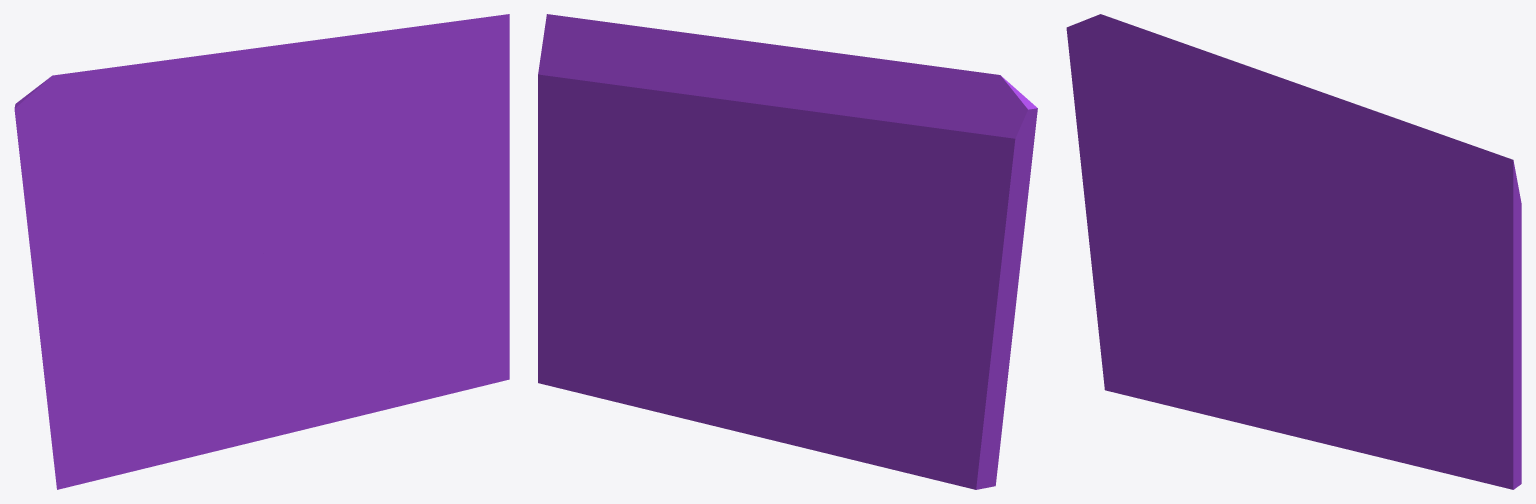
Rendered from Glass_2_1_chunks.fbx.
The picture shows the model from 3 angles, left to right: view 1: azimuth 30°, elevation 25°; view 2: azimuth 150°, elevation 25°; view 3: azimuth 330°, elevation 25°; orthographic projection. The views are drawn at different scales.
Visible parts, largest first — view 1: Glass_2_1_0, Glass_2_1_8, Glass_2_1_3, Glass_2_1_6, Glass_2_1_5, Glass_2_1_11, Glass_2_1_12, Glass_2_1_4, Glass_2_1_9, Glass_2_1_2, Glass_2_1_1, Glass_2_1_10; view 2: Glass_2_1_0, Glass_2_1_8, Glass_2_1_5, Glass_2_1_3, Glass_2_1_6, Glass_2_1_11, Glass_2_1_12, Glass_2_1_4, Glass_2_1_9, Glass_2_1_7; view 3: Glass_2_1_0, Glass_2_1_8, Glass_2_1_3, Glass_2_1_6, Glass_2_1_5, Glass_2_1_11, Glass_2_1_12, Glass_2_1_4, Glass_2_1_9, Glass_2_1_2, Glass_2_1_1, Glass_2_1_10.
Boxes of the visible parts, x1,y1,x2,y2 form: Glass_2_1_0: [14, 44, 285, 315]; Glass_2_1_8: [243, 25, 429, 254]; Glass_2_1_3: [144, 287, 420, 468]; Glass_2_1_6: [265, 213, 509, 400]; Glass_2_1_5: [37, 271, 172, 489]; Glass_2_1_11: [378, 14, 509, 173]; Glass_2_1_12: [453, 78, 509, 344]; Glass_2_1_4: [128, 228, 299, 329]; Glass_2_1_9: [364, 172, 491, 328]; Glass_2_1_2: [146, 314, 203, 462]; Glass_2_1_1: [218, 68, 278, 235]; Glass_2_1_10: [414, 157, 453, 207]; Glass_2_1_0: [768, 44, 1037, 316]; Glass_2_1_8: [626, 24, 819, 262]; Glass_2_1_5: [845, 274, 1014, 489]; Glass_2_1_3: [633, 293, 894, 469]; Glass_2_1_6: [538, 221, 785, 405]; Glass_2_1_11: [538, 14, 655, 175]; Glass_2_1_12: [538, 83, 603, 339]; Glass_2_1_4: [753, 232, 906, 333]; Glass_2_1_9: [556, 174, 650, 323]; Glass_2_1_7: [624, 157, 688, 262]; Glass_2_1_0: [1066, 14, 1311, 224]; Glass_2_1_8: [1273, 89, 1440, 275]; Glass_2_1_3: [1184, 310, 1433, 470]; Glass_2_1_6: [1293, 270, 1521, 489]; Glass_2_1_5: [1087, 224, 1209, 409]; Glass_2_1_11: [1394, 134, 1521, 263]; Glass_2_1_12: [1462, 210, 1521, 458]; Glass_2_1_4: [1169, 224, 1323, 314]; Glass_2_1_9: [1382, 246, 1496, 434]; Glass_2_1_2: [1186, 283, 1237, 404]; Glass_2_1_1: [1250, 107, 1304, 241]; Glass_2_1_10: [1427, 261, 1462, 309].
Bounding box in the file's own units: 873 × 701 × 27.2.
